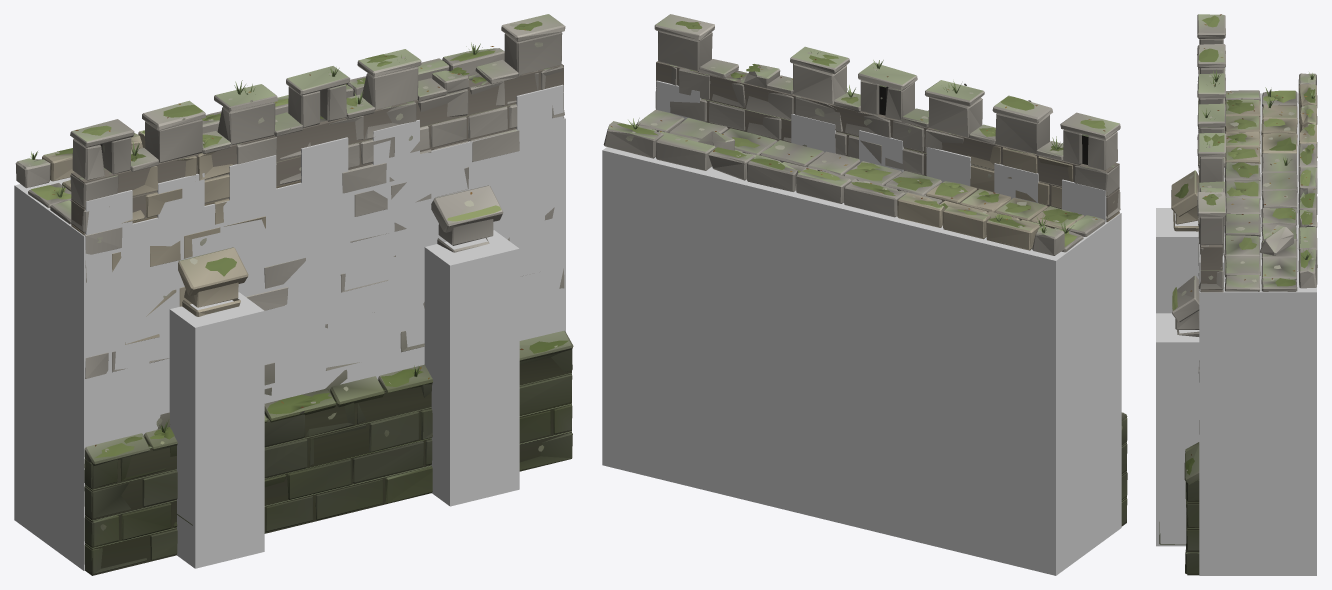
Rendered from curtain_c.glb.
The picture shows the model from 3 angles, left to right: view 1: azimuth 30°, elevation 25°; view 2: azimuth 150°, elevation 25°; view 3: azimuth 270°, elevation 25°; orthographic projection. The views are drawn at different scales.
Parts seen in each view (by area): view 1: curtain_c_shadow, curtain_c; view 2: curtain_c_shadow, curtain_c; view 3: curtain_c_shadow, curtain_c.
Boxes of the visible parts, bbox=[...] form: curtain_c_shadow: bbox=[14, 84, 565, 570]; curtain_c: bbox=[15, 14, 573, 575]; curtain_c_shadow: bbox=[602, 80, 1121, 575]; curtain_c: bbox=[603, 14, 1127, 526]; curtain_c_shadow: bbox=[1156, 93, 1316, 575]; curtain_c: bbox=[1159, 14, 1317, 575].
Size of what is drawn, in the model's own units: 10.4 by 9.11 by 3.57.
